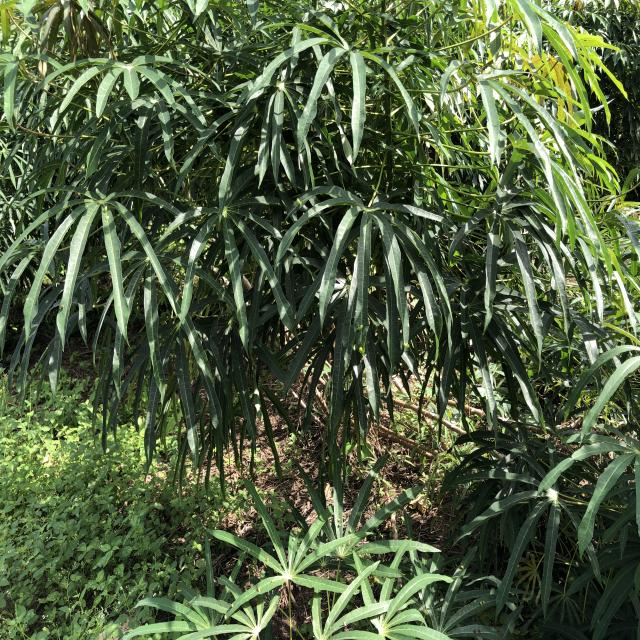Maleza: (4, 422, 143, 635)
Mosca: (241, 539, 276, 568), (333, 509, 346, 533), (220, 597, 239, 613), (337, 615, 353, 633), (352, 321, 365, 339), (357, 341, 367, 360), (251, 582, 260, 595)
